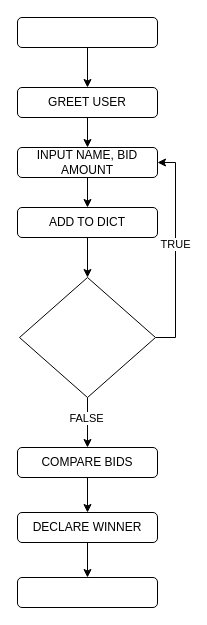
Some shapes in this 207 by 625 pixel diagram are drawn without their labels. Each missing label, with the box of its shape:
CONTINUE?: (18, 276, 156, 398)
START: (16, 16, 158, 48)
STOP: (16, 576, 158, 608)
